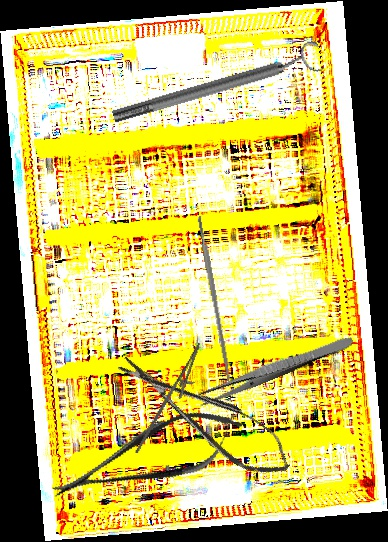Dressing Forceps: (194, 330, 356, 409)
Fixation Ring: (108, 38, 326, 133)
Micro Scissor: (111, 337, 300, 491), (41, 393, 253, 520)
Needle Holder: (134, 336, 210, 464)
Scalpel Handle: (196, 215, 233, 382)
